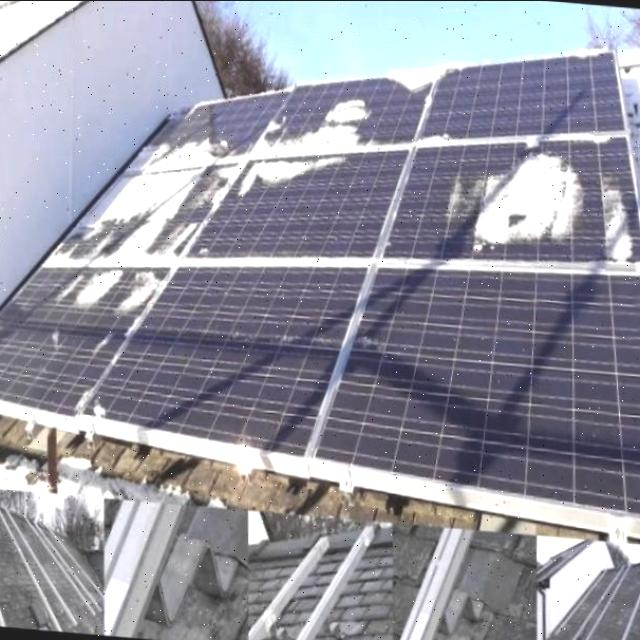Anomaly Solar Panel: (379, 134, 640, 268), (0, 272, 176, 426), (186, 151, 415, 268), (421, 48, 630, 147), (47, 172, 246, 272), (253, 70, 445, 163), (126, 92, 295, 182)
Normal Solar Panel: (315, 262, 640, 517), (84, 267, 375, 461)
Snow: (45, 98, 272, 335), (243, 89, 453, 176), (481, 145, 585, 252), (395, 50, 618, 95), (233, 140, 356, 203), (599, 182, 640, 262), (72, 271, 133, 315), (124, 271, 167, 327)
